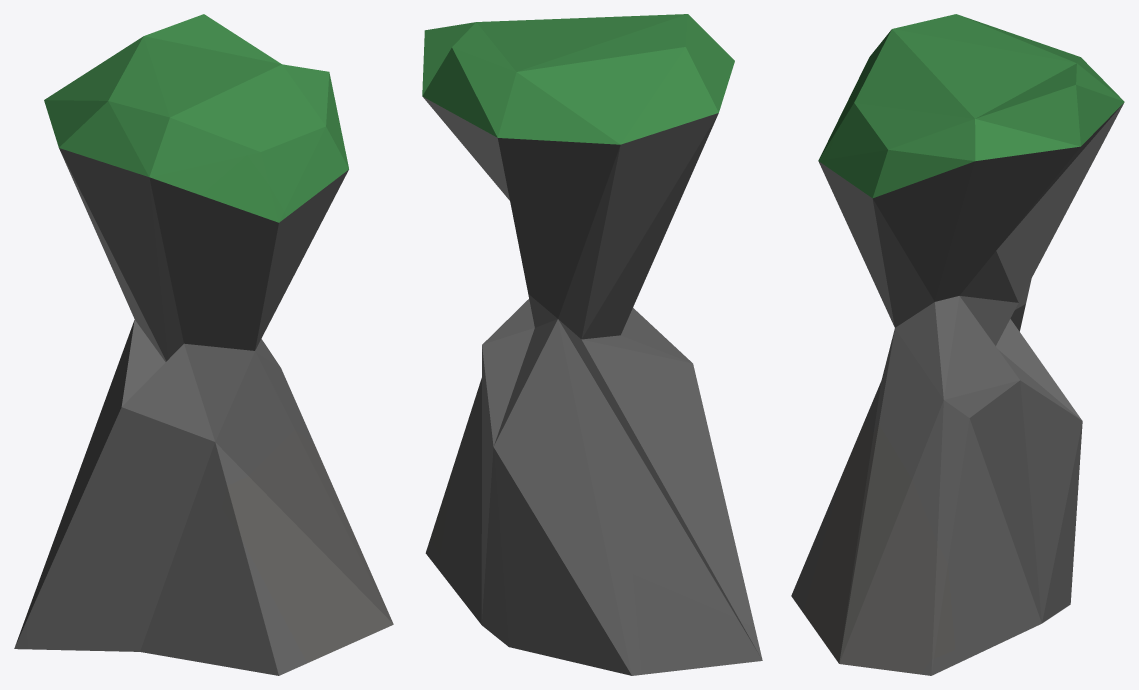
The model's file is TreePackage.fbx_Rocks_6.fbx.
3 renders of one model, left to right at view 1: azimuth 30°, elevation 25°; view 2: azimuth 150°, elevation 25°; view 3: azimuth 270°, elevation 25°, orthographic. The views are drawn at different scales.
Visible parts, largest first — view 1: RockPillar; view 2: RockPillar; view 3: RockPillar.
Part boxes in pixels (x1,y1,x2,y2): RockPillar: (14, 14, 393, 675); RockPillar: (422, 14, 762, 675); RockPillar: (791, 14, 1124, 675).
Bounding box in the file's own units: 467 × 724 × 402.
